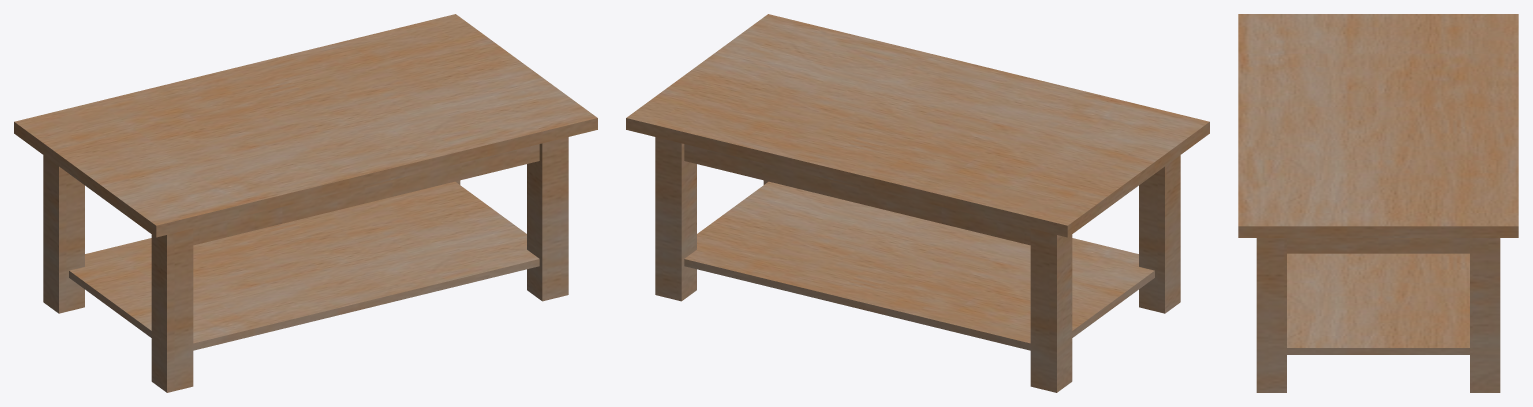
Rendered from Table_21.glb.
3 views of the same model, side by side, from view 1: azimuth 30°, elevation 25°; view 2: azimuth 150°, elevation 25°; view 3: azimuth 270°, elevation 25° (orthographic).
Parts seen in each view (by area): view 1: Table_21; view 2: Table_21; view 3: Table_21.
Part boxes in pixels (x1,y1,x2,y2): Table_21: [14, 14, 597, 392]; Table_21: [626, 14, 1209, 392]; Table_21: [1238, 14, 1518, 392].
Size of the model in its own units: 1.73 by 0.6711 by 0.9663.
1 material, 1 textured.
